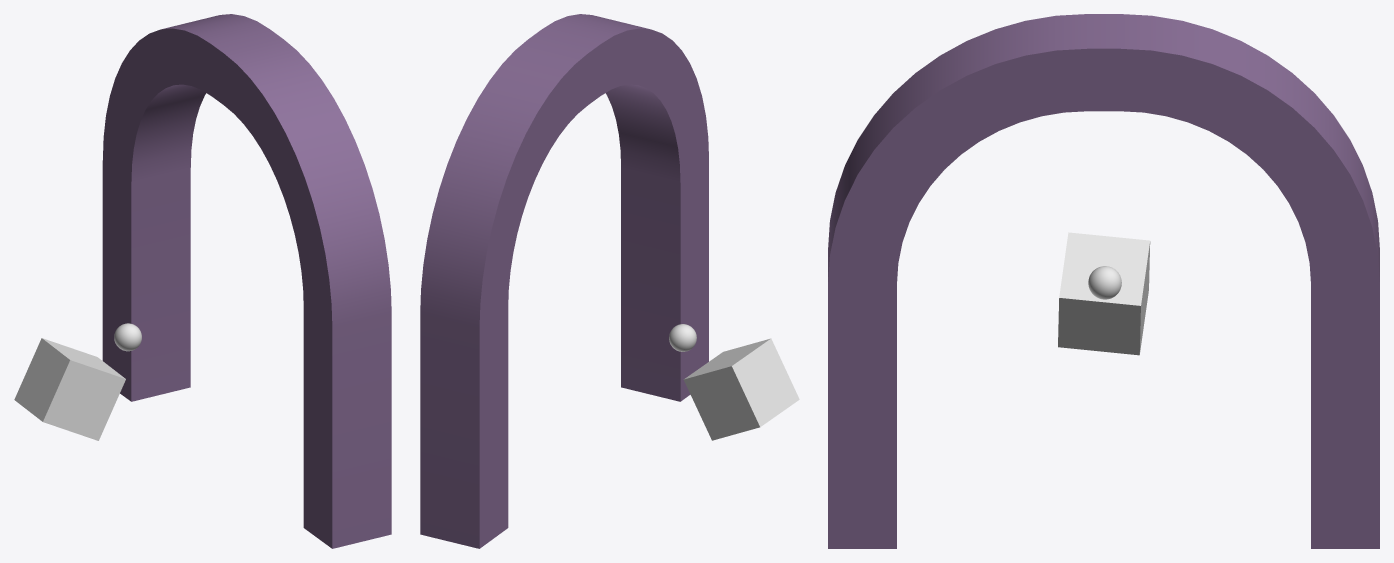
File: xyz2.glb
3 renders of one model, left to right at view 1: azimuth 30°, elevation 25°; view 2: azimuth 150°, elevation 25°; view 3: azimuth 270°, elevation 25°, orthographic. The views are drawn at different scales.
Visible parts, largest first — view 1: Cube.001, Cube; view 2: Cube.001, Cube; view 3: Cube.001, Cube.
Part boxes in pixels (left/top/right/bottom): Cube.001: left=102, top=14, right=391, bottom=548; Cube: left=14, top=323, right=141, bottom=440; Cube.001: left=420, top=14, right=708, bottom=548; Cube: left=669, top=324, right=799, bottom=440; Cube.001: left=828, top=14, right=1379, bottom=548; Cube: left=1058, top=232, right=1150, bottom=355.
Size of what is drawn, in the model's own units: 8.41 by 13.4 by 13.4.
